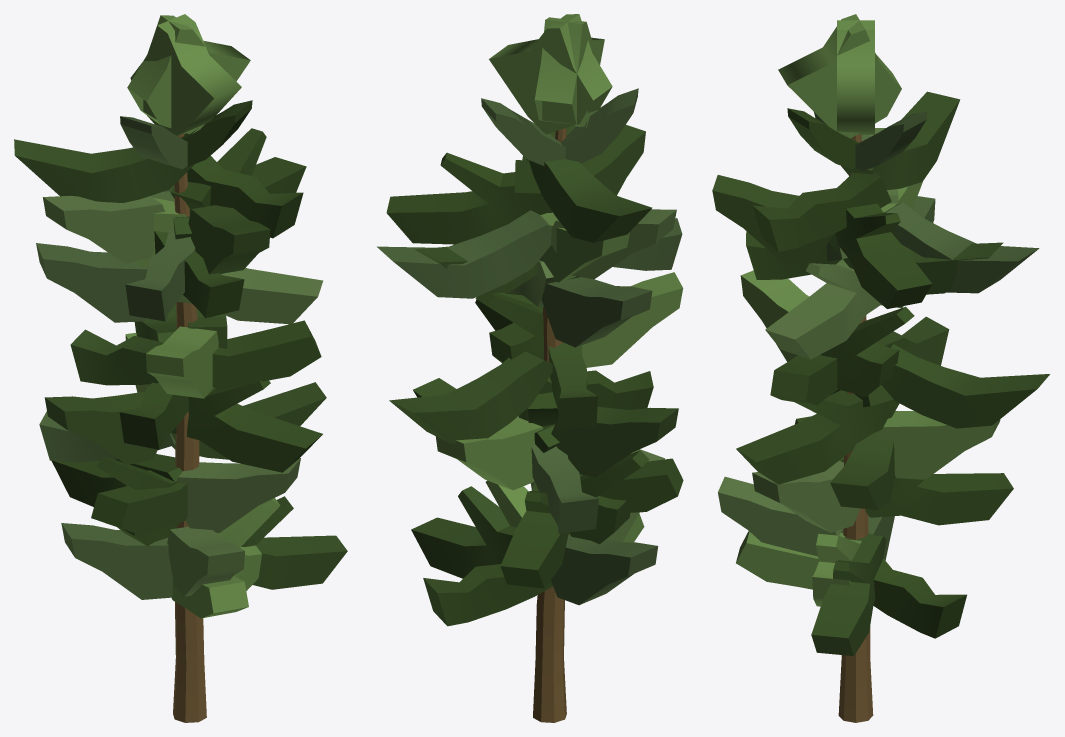
The model's file is Tree02.fbx.
3 views of the same model, side by side, from view 1: azimuth 30°, elevation 25°; view 2: azimuth 150°, elevation 25°; view 3: azimuth 270°, elevation 25° (orthographic).
Visible parts, largest first — view 1: Tree06; view 2: Tree06; view 3: Tree06.
Boxes of the visible parts, box(x1,y1,x2,y2) form: Tree06: box(14, 14, 347, 722); Tree06: box(377, 14, 683, 722); Tree06: box(712, 14, 1049, 722).
Size of the model in its own units: 195 by 463 by 207.
